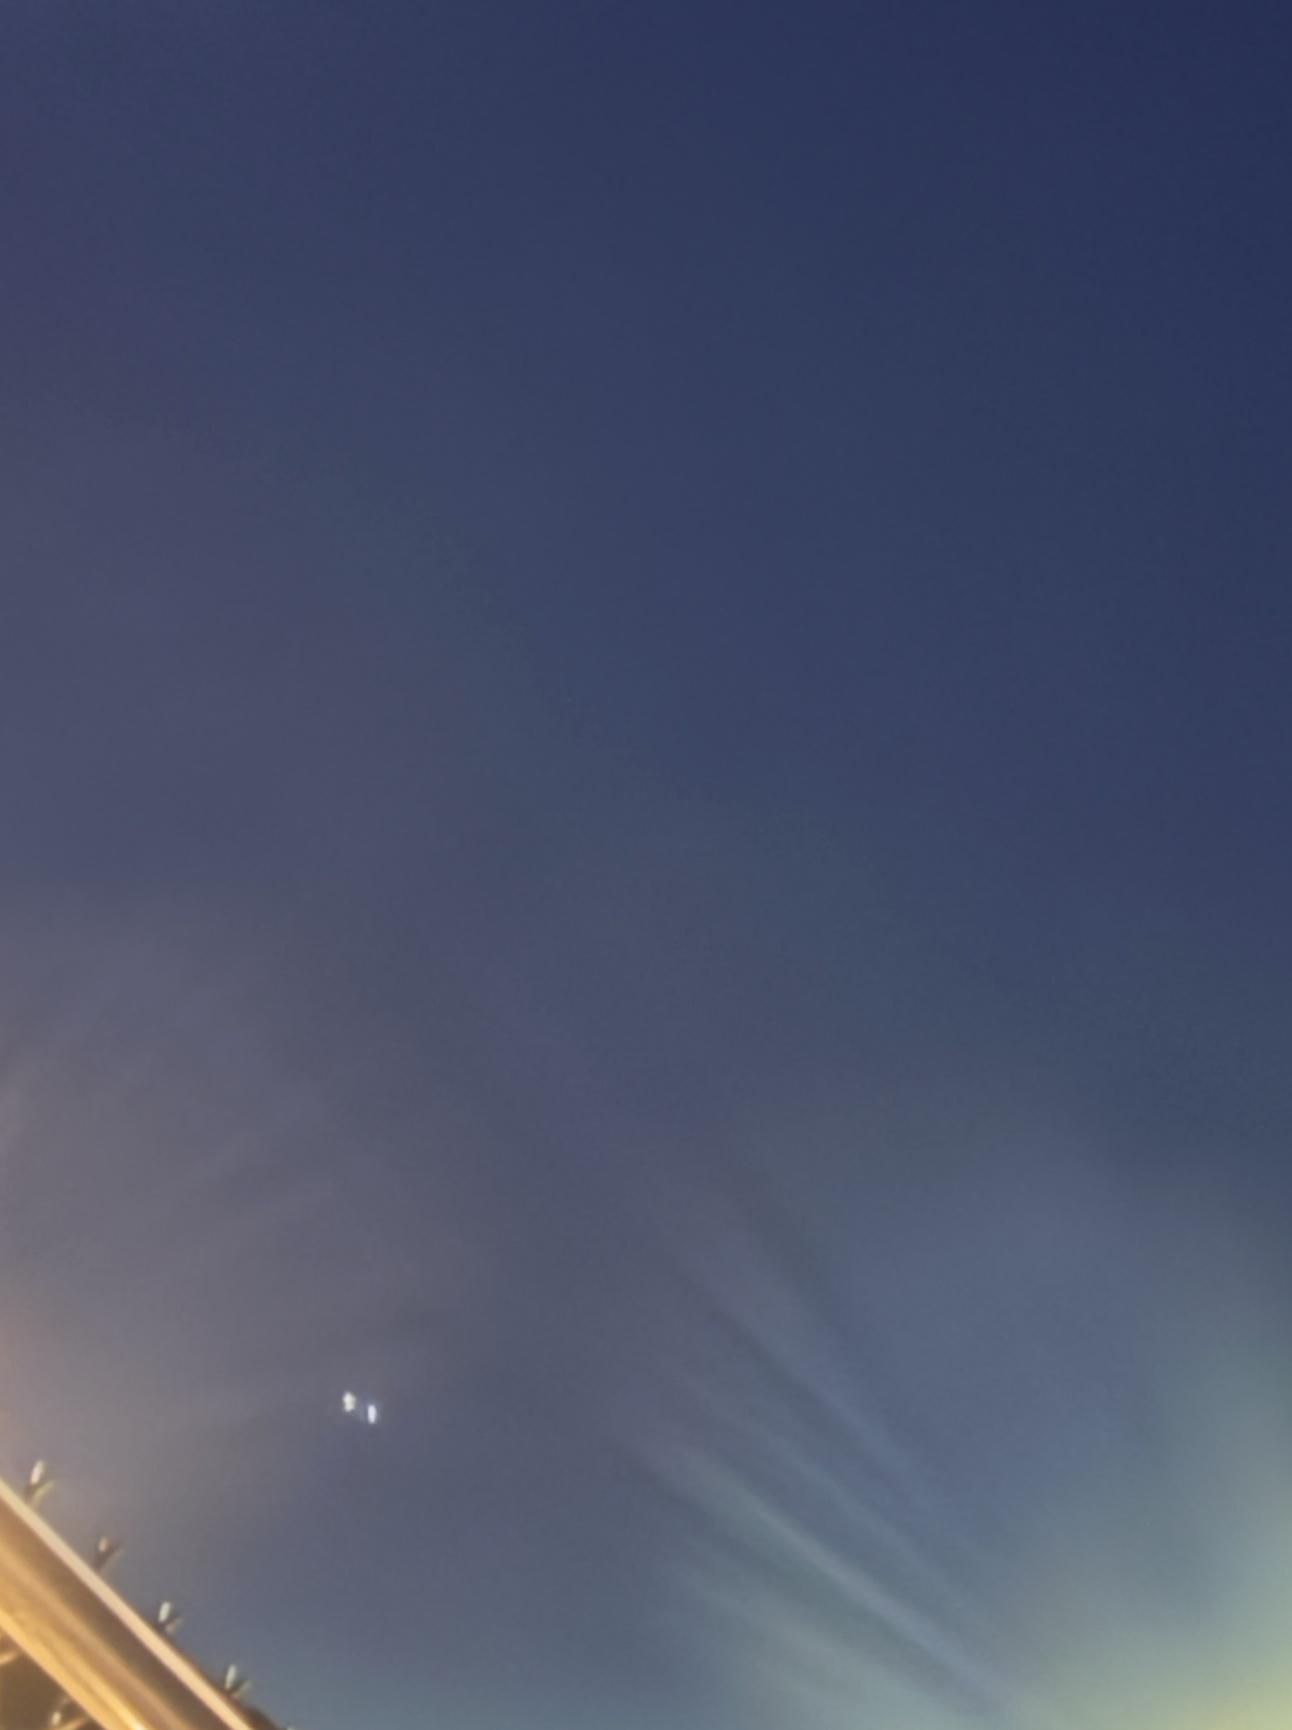Plane: (301, 1377, 459, 1448)
